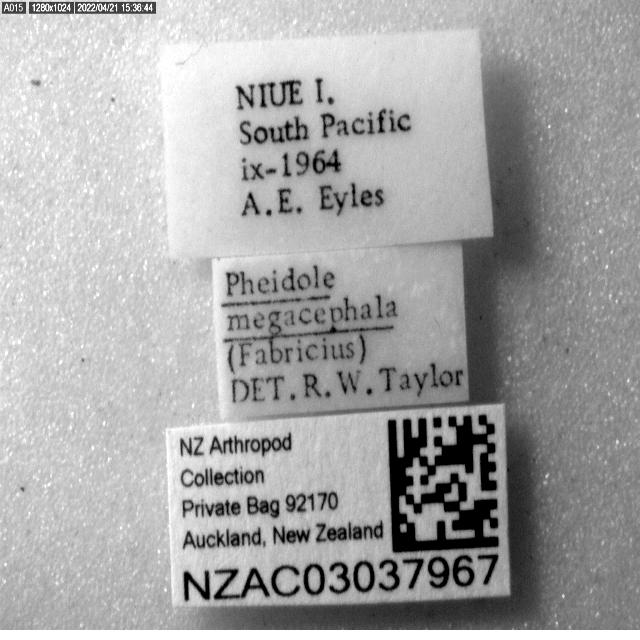typed_label: (161, 30, 492, 258), (166, 405, 510, 605), (212, 242, 469, 420)
